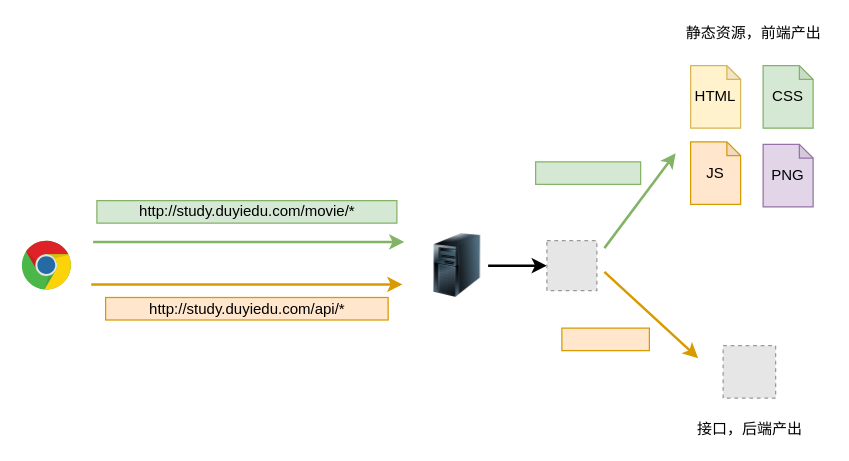
Some shapes in this 849 by 461 pixel diagram are drawn without their labels. Grey dashed boxes stand in for pictures. The box of each missing label's shape, as (x1, y1, x2, y2) in pixels:
/api 开头: (561, 327, 649, 351)
/movie 开头: (534, 161, 641, 184)
